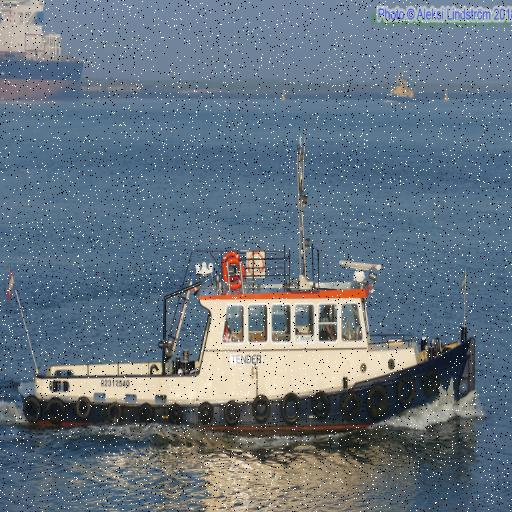tugboat: (5, 131, 480, 441)
